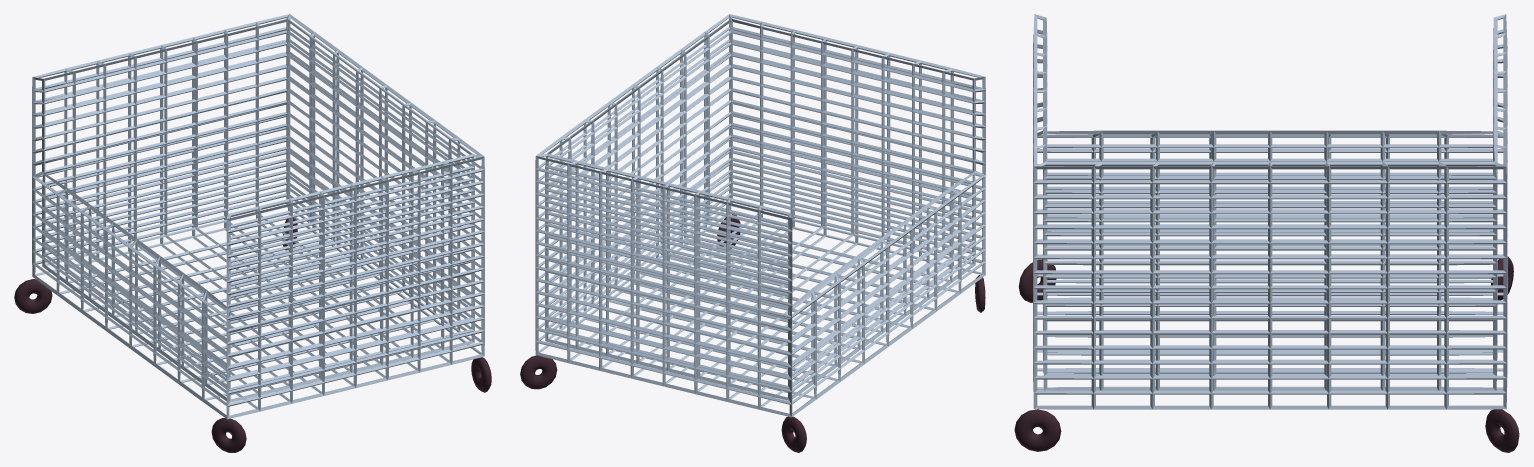
Rendered from Cart.fbx.
The picture shows the model from 3 angles, left to right: view 1: azimuth 30°, elevation 25°; view 2: azimuth 150°, elevation 25°; view 3: azimuth 270°, elevation 25°; orthographic projection. The views are drawn at different scales.
Visible parts, largest first — view 1: Cube.012, Torus.003; view 2: Cube.012, Torus.003; view 3: Cube.012, Torus.003.
Part boxes in pixels (x1,y1,x2,y2): Cube.012: (32, 14, 484, 419); Torus.003: (14, 218, 491, 452); Cube.012: (535, 14, 985, 417); Torus.003: (520, 214, 985, 452); Cube.012: (1033, 14, 1507, 409); Torus.003: (1014, 256, 1519, 452).
Bounding box in the file's own units: 2689 × 2134 × 3404.
